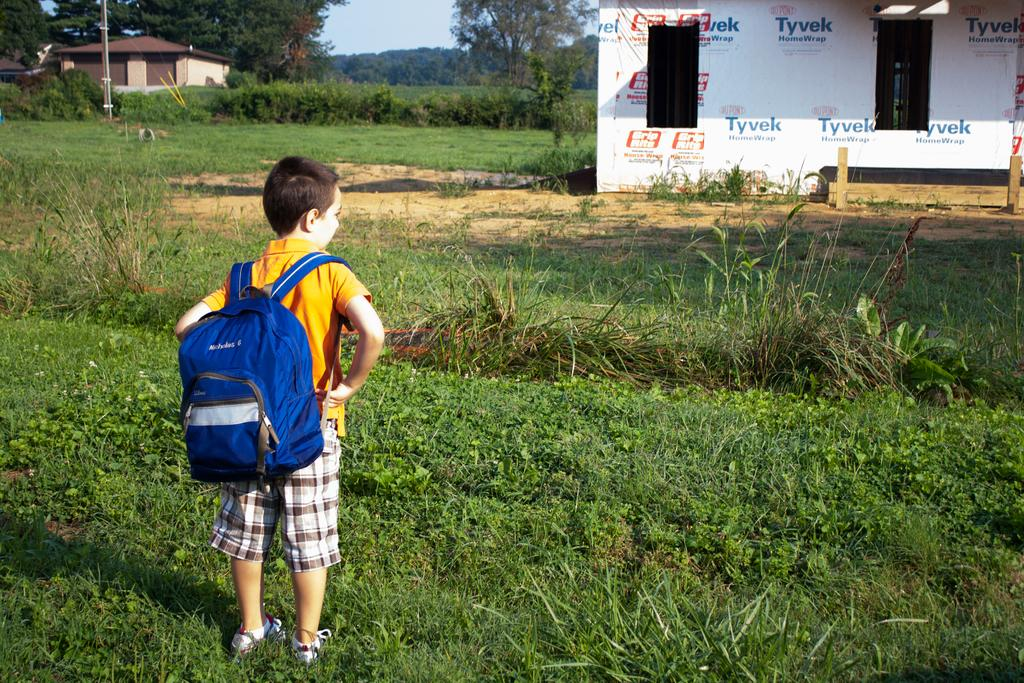Luggage-and-bags: (176, 256, 353, 494)
